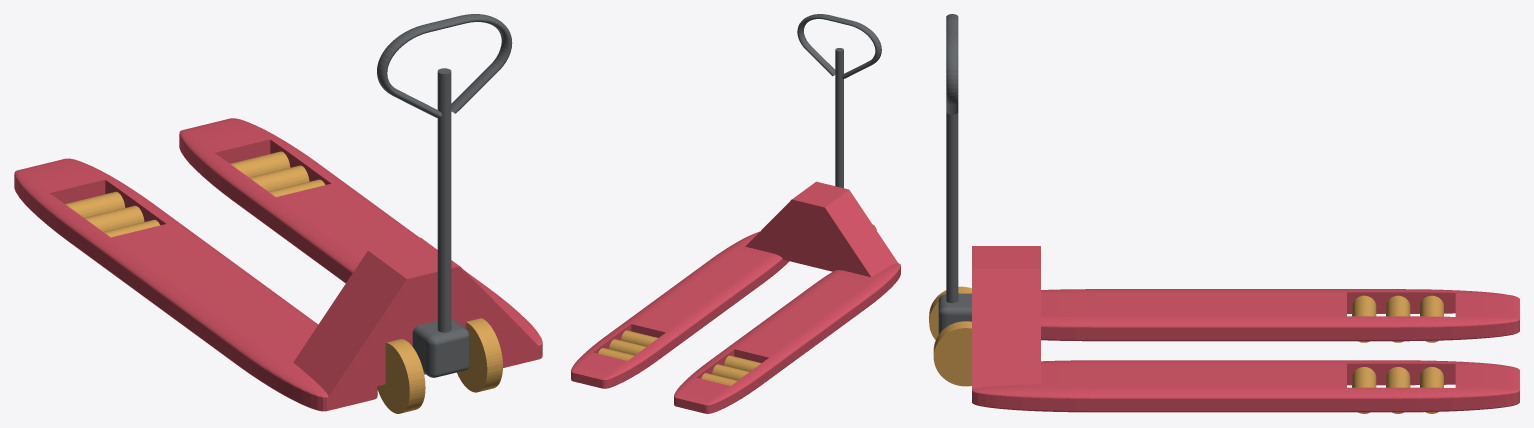
Rendered from Pallet-truck.glb.
3 views of the same model, side by side, from view 1: azimuth 30°, elevation 25°; view 2: azimuth 150°, elevation 25°; view 3: azimuth 270°, elevation 25° (orthographic). The views are drawn at different scales.
Parts seen in each view (by area): view 1: Mesh_Mesh_head_geo.001_lambert2SG.001; view 2: Mesh_Mesh_head_geo.001_lambert2SG.001; view 3: Mesh_Mesh_head_geo.001_lambert2SG.001.
Boxes of the visible parts, bbox=[...] form: Mesh_Mesh_head_geo.001_lambert2SG.001: bbox=[14, 14, 542, 413]; Mesh_Mesh_head_geo.001_lambert2SG.001: bbox=[571, 14, 900, 413]; Mesh_Mesh_head_geo.001_lambert2SG.001: bbox=[929, 14, 1519, 413].
Bounding box in the file's own units: 3.19 × 4.63 × 7.33.
